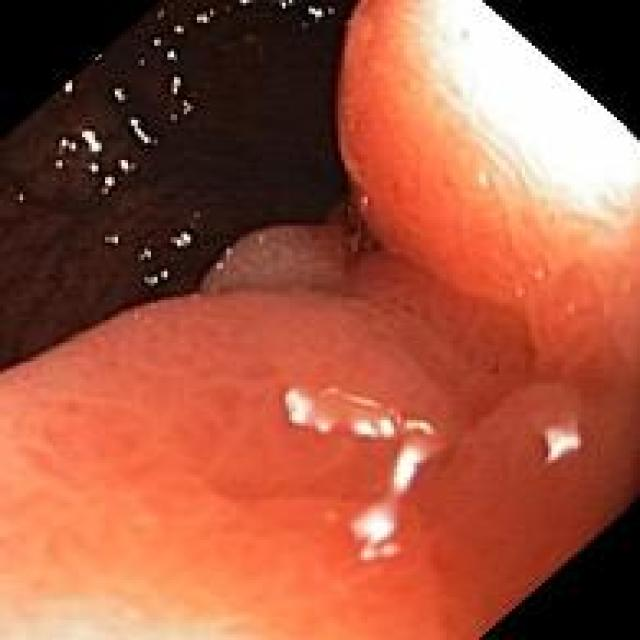Polyps: (201, 225, 349, 292)
